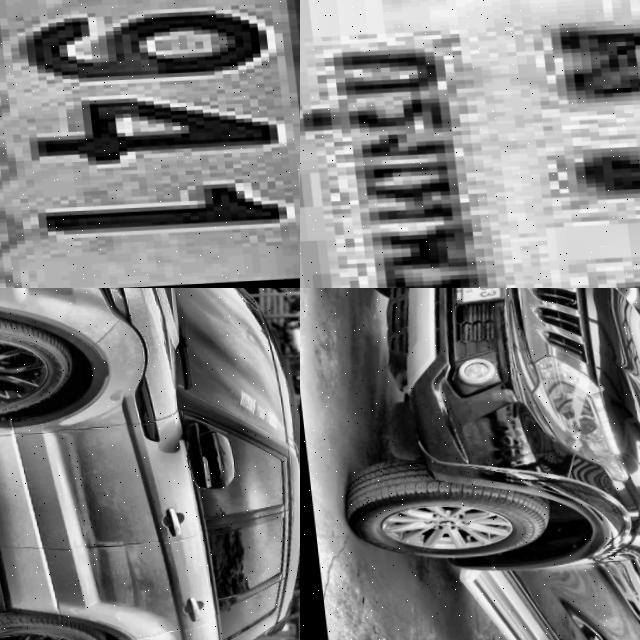license-plate: (300, 0, 640, 288), (0, 0, 300, 288), (441, 288, 507, 307)
